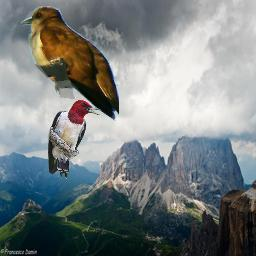Cuckoo: (21, 6, 119, 122)
Woodpecker: (46, 100, 103, 179)
